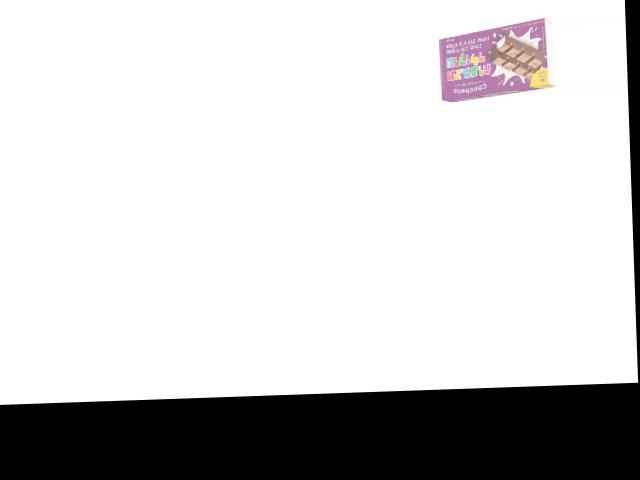chocolate: (430, 23, 557, 102)
